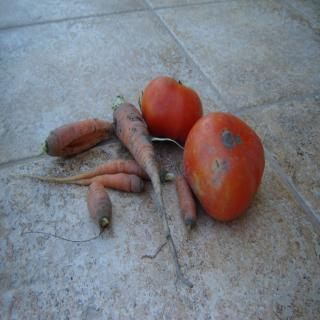tomato: (183, 110, 265, 224), (141, 76, 203, 144)
